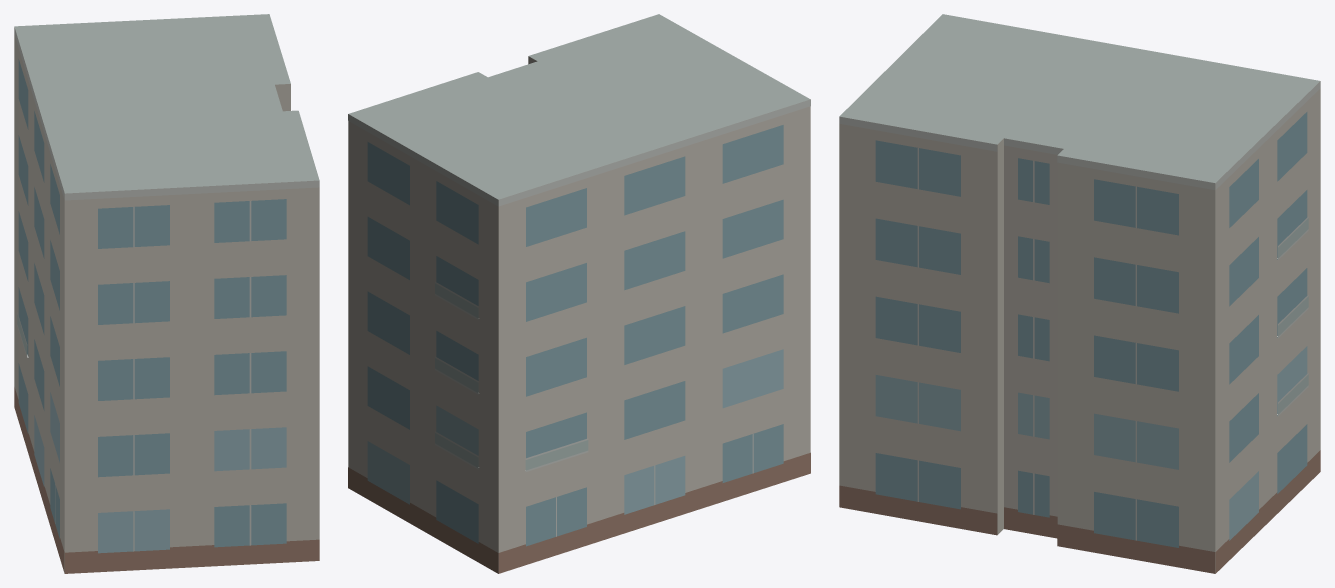
The model's file is survey-upis-32980296.glb.
3 views of the same model, side by side, from view 1: azimuth 30°, elevation 25°; view 2: azimuth 150°, elevation 25°; view 3: azimuth 270°, elevation 25° (orthographic). The views are drawn at different scales.
Visible parts, largest first — view 1: survey-upis-32980296.tmp; view 2: survey-upis-32980296.tmp; view 3: survey-upis-32980296.tmp.
Part boxes in pixels (left/top/right/bottom): survey-upis-32980296.tmp: left=14, top=14, right=319, bottom=573; survey-upis-32980296.tmp: left=348, top=14, right=810, bottom=573; survey-upis-32980296.tmp: left=839, top=14, right=1320, bottom=573.
Bounding box in the file's own units: 12.41 × 13.35 × 14.92.
